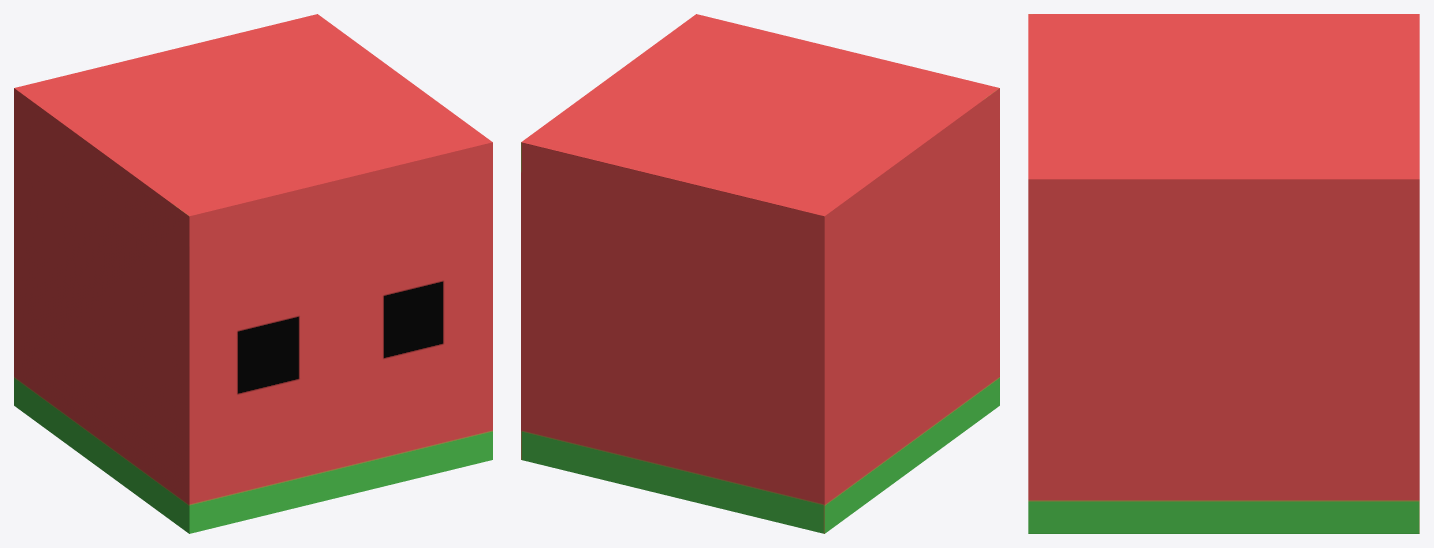
Rendered from Melice.fbx.
3 views of the same model, side by side, from view 1: azimuth 30°, elevation 25°; view 2: azimuth 150°, elevation 25°; view 3: azimuth 270°, elevation 25° (orthographic). The views are drawn at different scales.
Visible parts, largest first — view 1: Cube; view 2: Cube; view 3: Cube.
Part boxes in pixels (x1,y1,x2,y2): Cube: (14, 14, 492, 533); Cube: (521, 14, 999, 533); Cube: (1028, 14, 1419, 533).
Bounding box in the file's own units: 128 × 128 × 128.
1 material, 1 textured.
